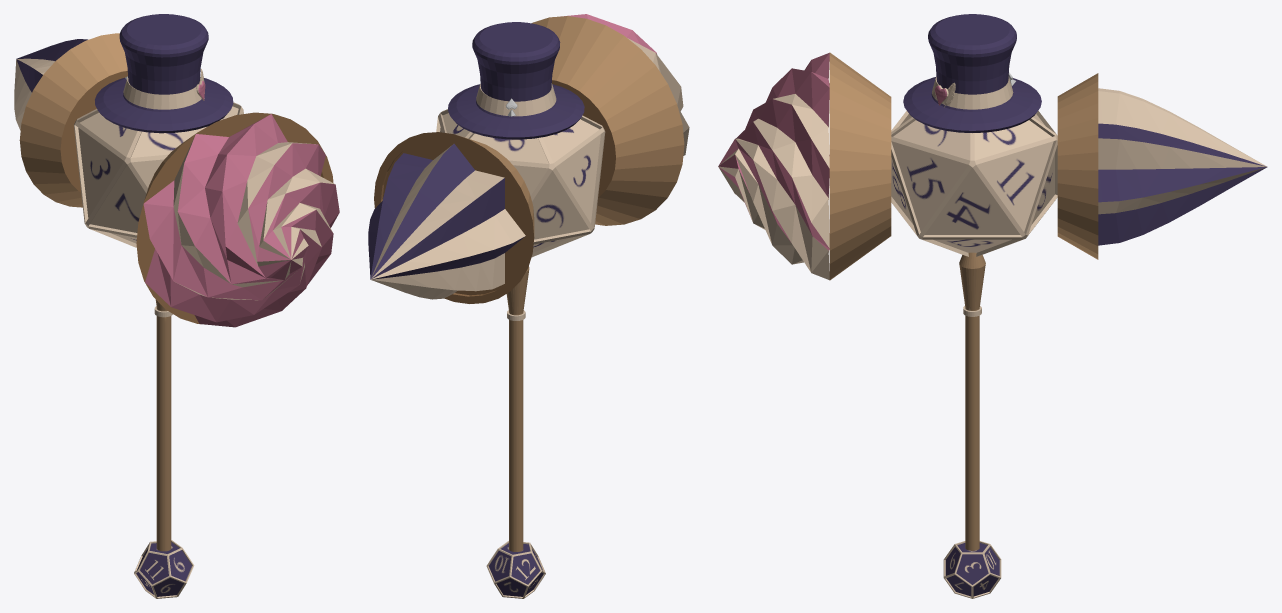
File: hummer.obj
3 views of the same model, side by side, from view 1: azimuth 30°, elevation 25°; view 2: azimuth 150°, elevation 25°; view 3: azimuth 270°, elevation 25° (orthographic).
Visible parts, largest first — view 1: 円柱.011; view 2: 円柱.011; view 3: 円柱.011.
Boxes of the visible parts, bbox=[...] form: 円柱.011: bbox=[14, 14, 339, 598]; 円柱.011: bbox=[368, 14, 689, 598]; 円柱.011: bbox=[718, 14, 1267, 598].
Bounding box in the file's own units: 0.9195 × 2.49 × 2.21.
2 materials, 1 textured.
